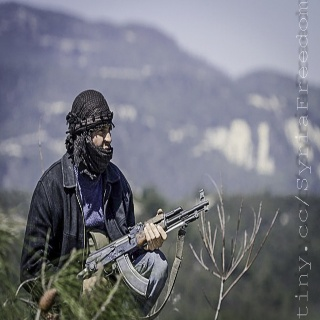rifle: (78, 189, 213, 302)
